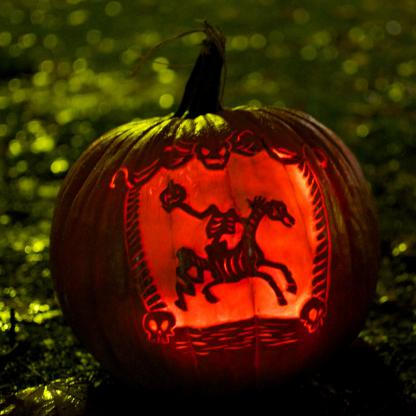Pumpkin: (50, 17, 382, 403)
